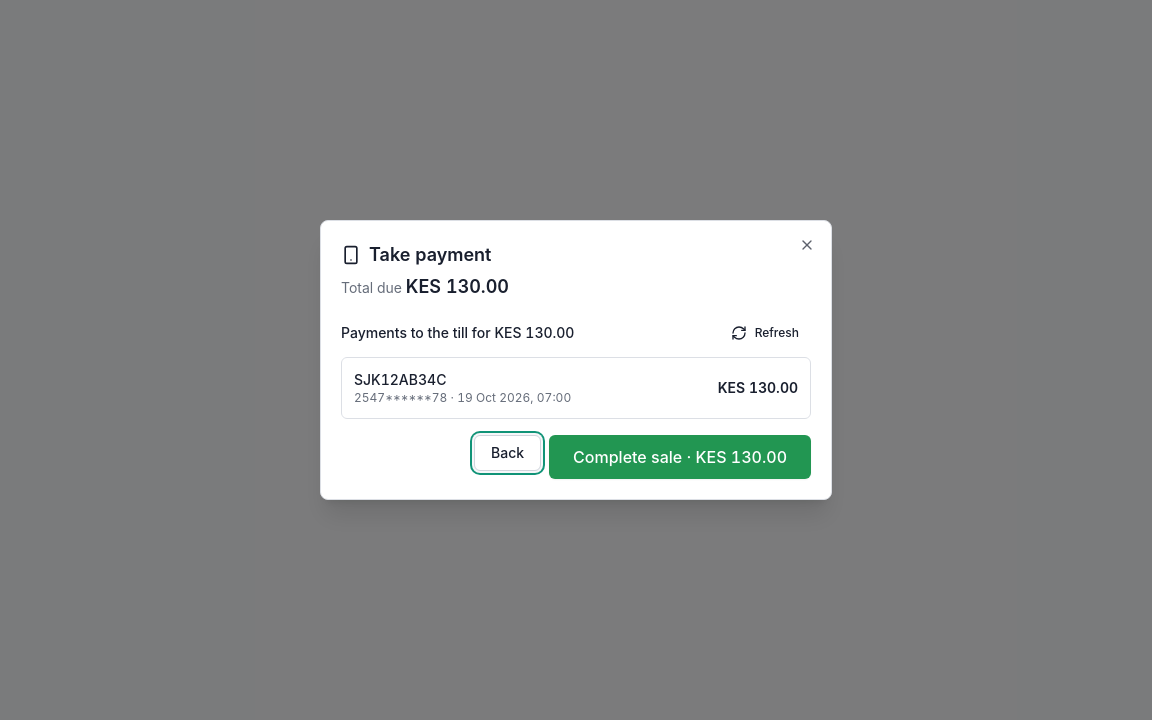
Test case: payment conflicts › drops a till payment another sale just took and reloads the list
Click the text "SJK12AB34C": (400, 380) top-left (354, 371), bottom-right (446, 388)
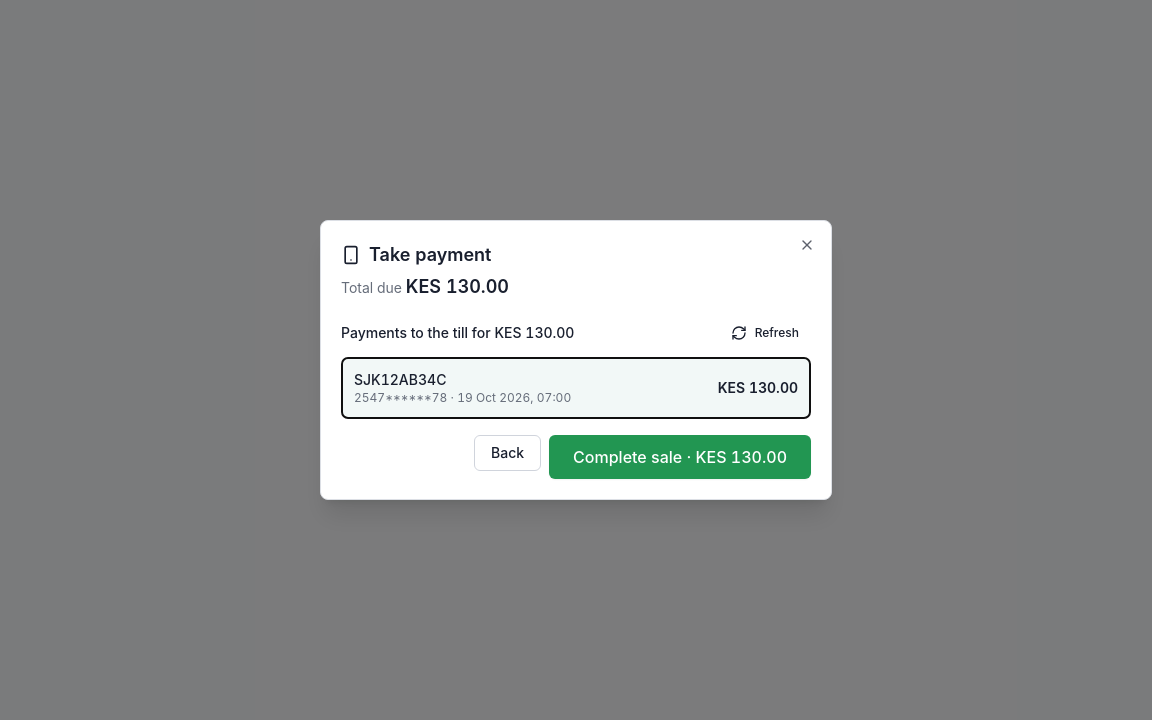
Click the button "Complete sale · KES 130.00": (680, 457) top-left (549, 435), bottom-right (811, 479)
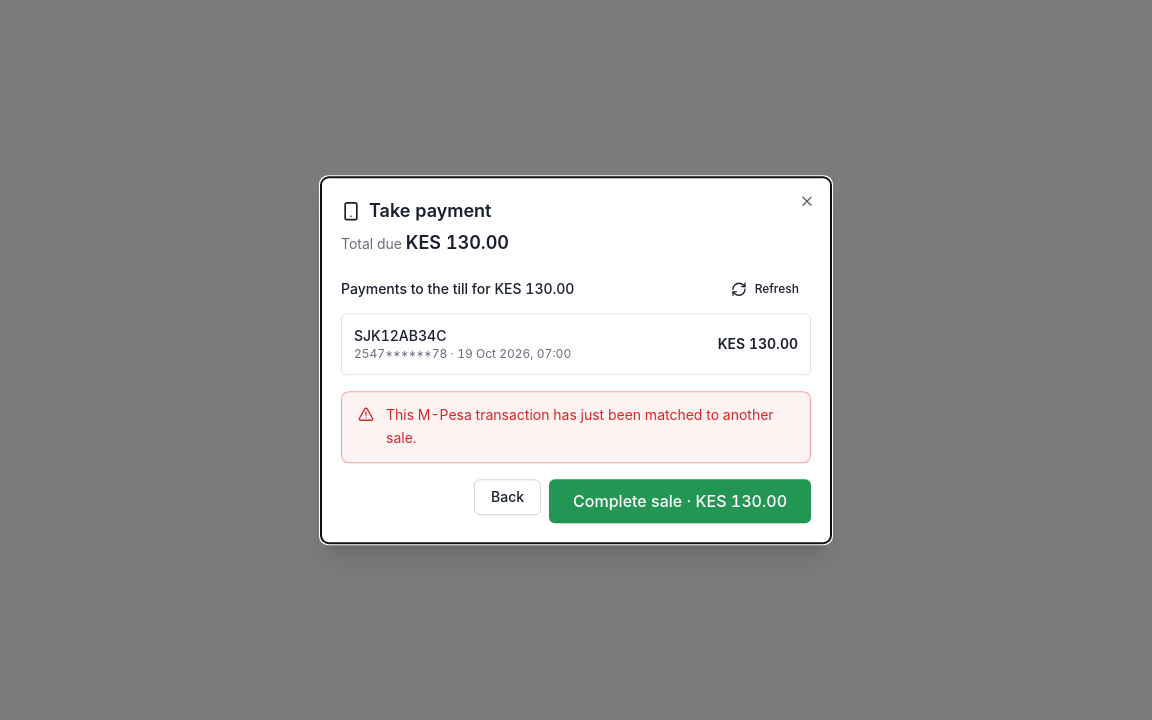
Now the text "just been matched to another sale" is shown, box top-left (386, 406), bottom-right (774, 446)
The choice was cleared, so charging again asks for a payment first instead of resending the taken one.
Click the button "Complete sale · KES 130.00": (680, 501) top-left (549, 479), bottom-right (811, 523)
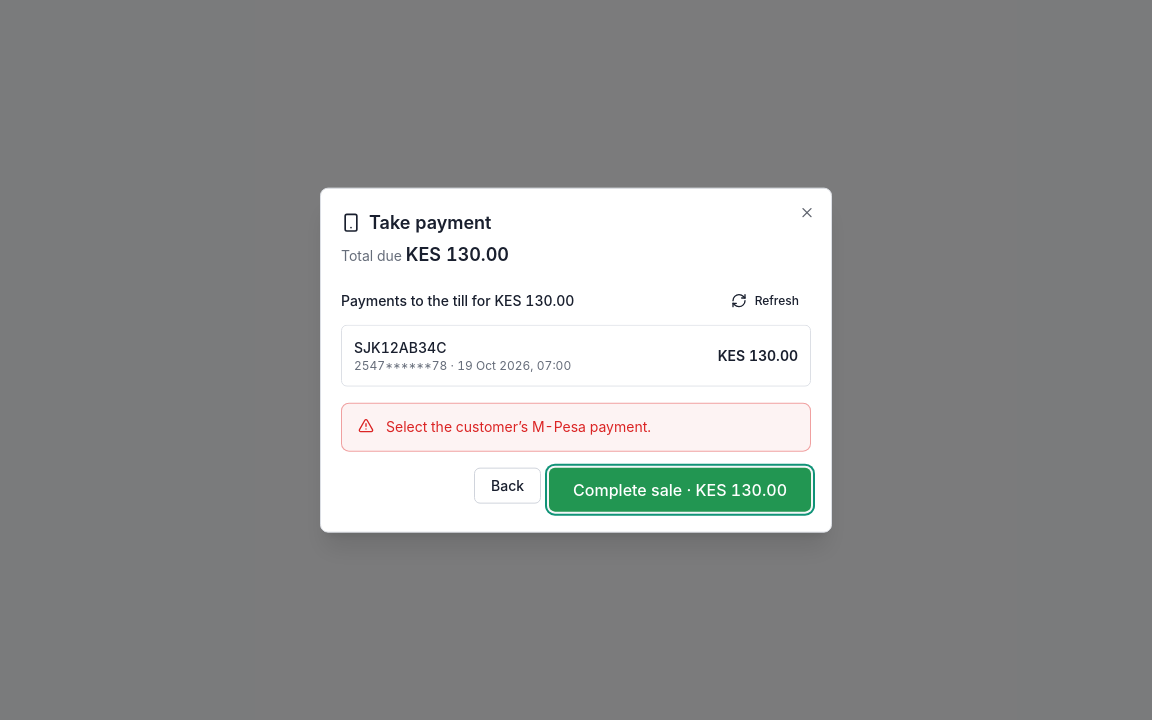
Now the text "Select the customer’s M-Pesa payment." is shown, box top-left (386, 418), bottom-right (651, 435)
